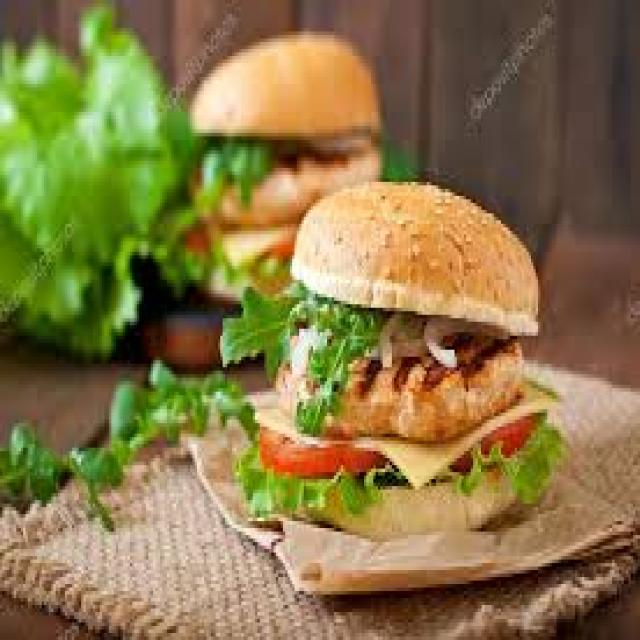햄버거: (220, 182, 552, 497)
